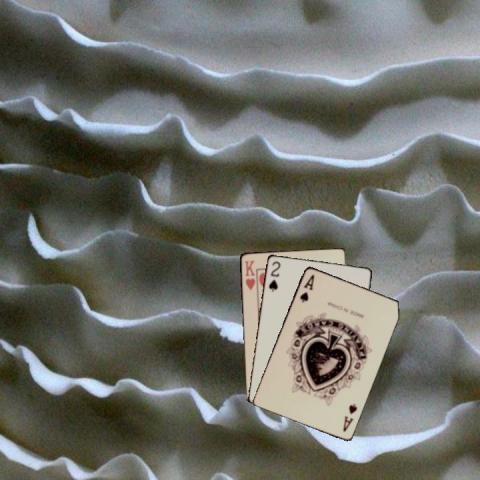2s: (266, 258, 282, 293)
As: (340, 401, 359, 433), (297, 272, 315, 304)
Kh: (241, 257, 256, 291)
